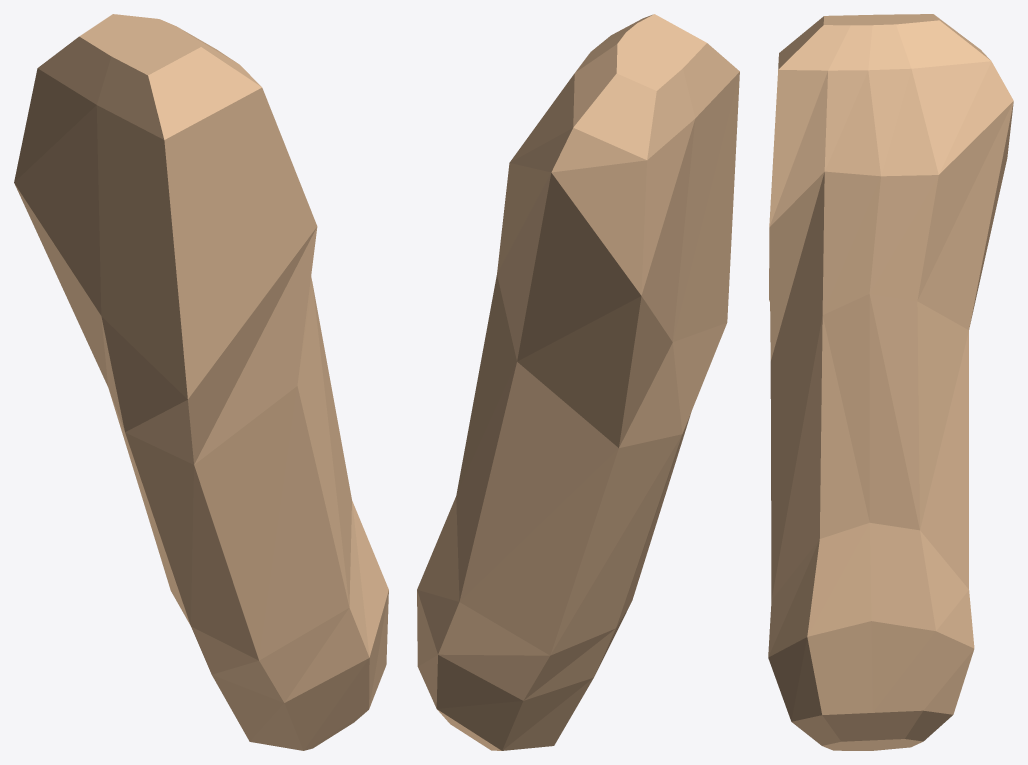
File: LFing30_mesh.dae
3 renders of one model, left to right at view 1: azimuth 30°, elevation 25°; view 2: azimuth 150°, elevation 25°; view 3: azimuth 270°, elevation 25°, orthographic. The views are drawn at different scales.
Parts seen in each view (by area): view 1: LFing30; view 2: LFing30; view 3: LFing30.
Part boxes in pixels (x1=…): LFing30: x1=14, y1=14, x2=388, y2=750; LFing30: x1=417, y1=14, x2=739, y2=750; LFing30: x1=768, y1=14, x2=1013, y2=750.
Bounding box in the file's own units: 0.0271 × 0.0708 × 0.0232.
